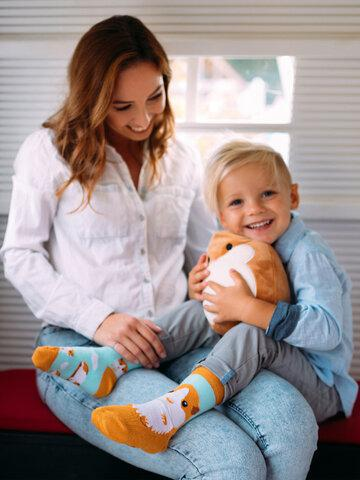child: (195, 145, 356, 414)
